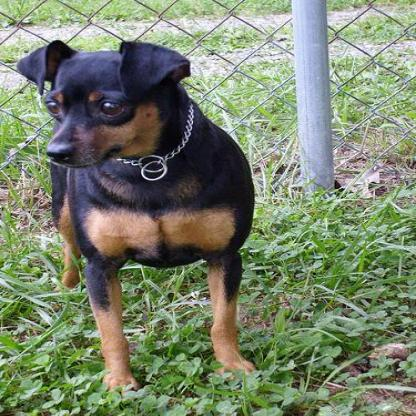miniature_pinscher: (11, 37, 257, 392)
